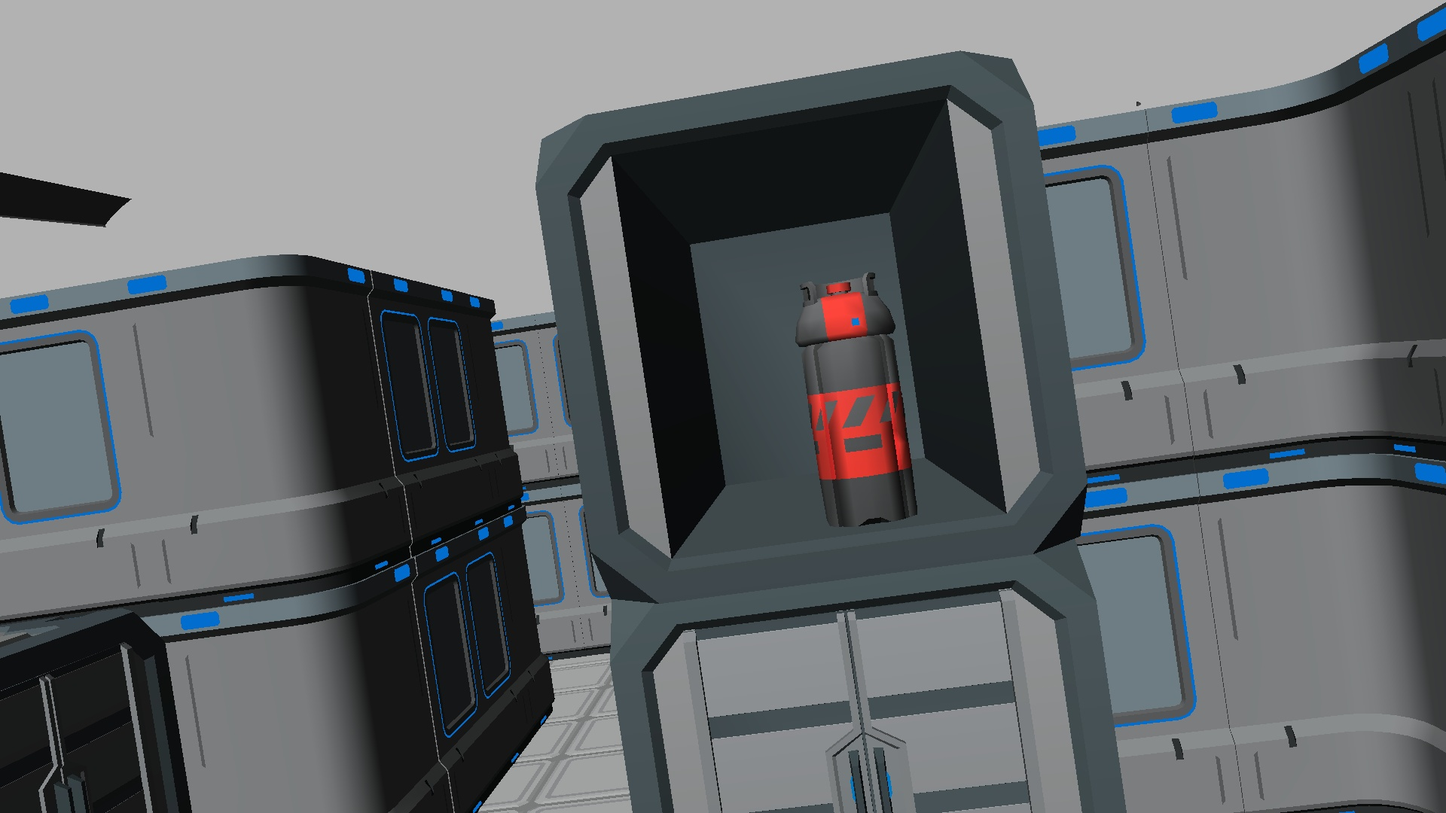red barrel: (795, 273, 918, 527)
